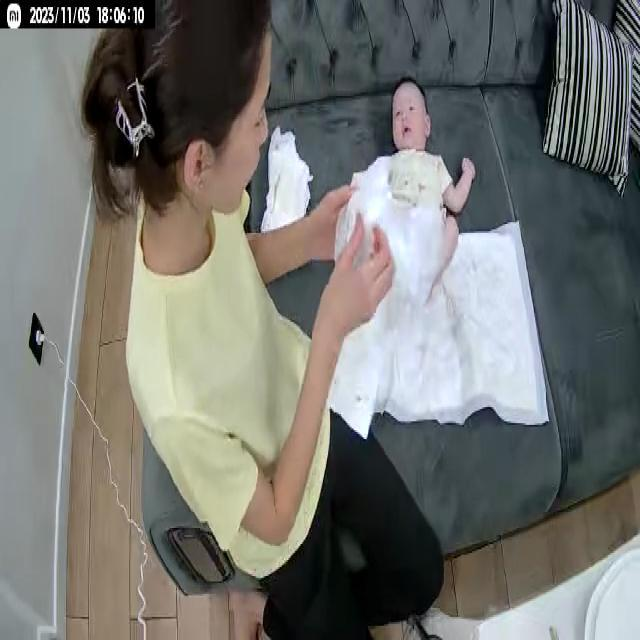baby: (350, 75, 478, 320)
